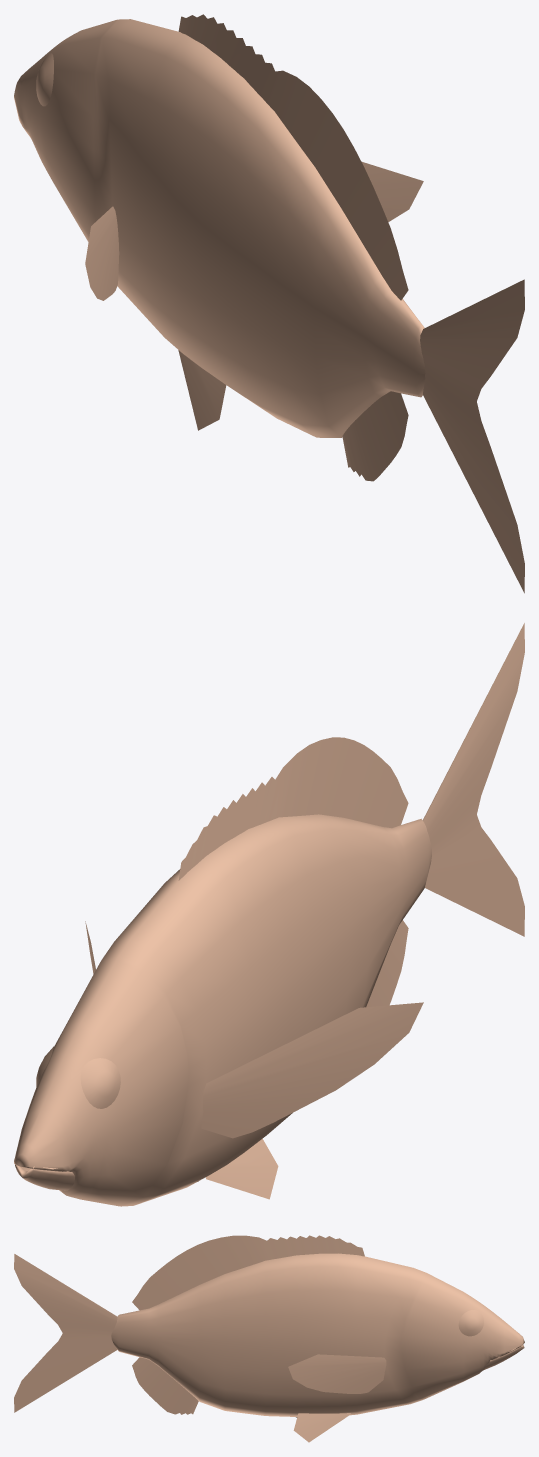
Rendered from surfperch_game.glb.
3 renders of one model, top to bottom at view 1: azimuth 30°, elevation 25°; view 2: azimuth 150°, elevation 25°; view 3: azimuth 270°, elevation 25°, orthographic. The views are drawn at different scales.
Visible parts, largest first — view 1: surfperch_game; view 2: surfperch_game; view 3: surfperch_game.
Part boxes in pixels (x1,y1,x2,y2): surfperch_game: (14, 14, 524, 593); surfperch_game: (14, 623, 524, 1206); surfperch_game: (14, 1235, 524, 1442).
Size of the model in its own units: 0.1164 by 0.1286 by 0.3002.
